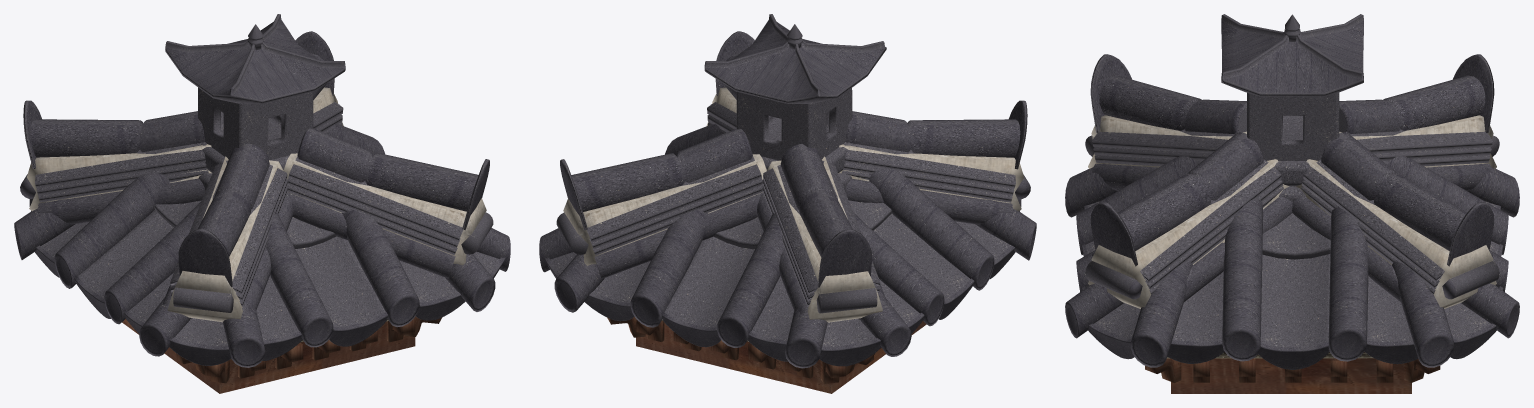
Rendered from SM_Roof_44.fbx.
3 views of the same model, side by side, from view 1: azimuth 30°, elevation 25°; view 2: azimuth 150°, elevation 25°; view 3: azimuth 270°, elevation 25° (orthographic). The views are drawn at different scales.
Parts seen in each view (by area): view 1: SM_Roof_44; view 2: SM_Roof_44; view 3: SM_Roof_44.
Part boxes in pixels (x1,y1,x2,y2): SM_Roof_44: (14, 14, 510, 393); SM_Roof_44: (539, 14, 1036, 393); SM_Roof_44: (1065, 14, 1519, 393).
Size of the model in its own units: 164 by 166 by 132.
3 materials, 3 textured.
